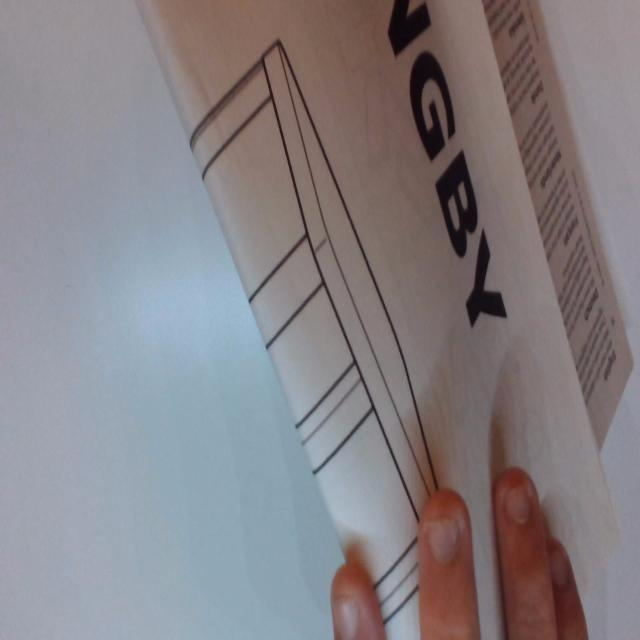Paper: (138, 0, 640, 640)
